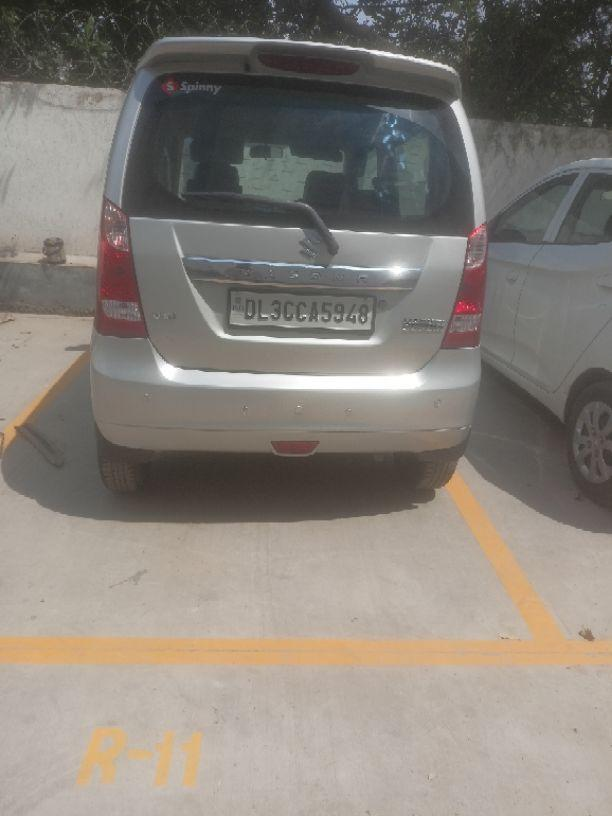license_plate: (226, 287, 376, 333)
